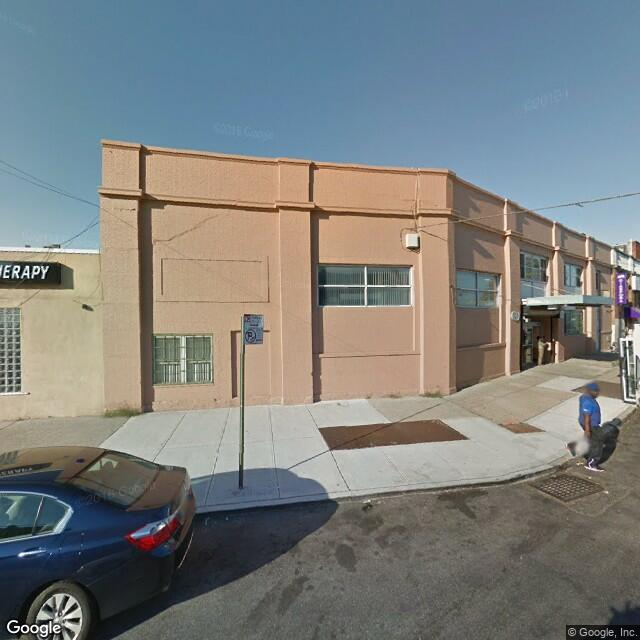litter: (357, 492, 393, 512), (217, 508, 236, 522)
